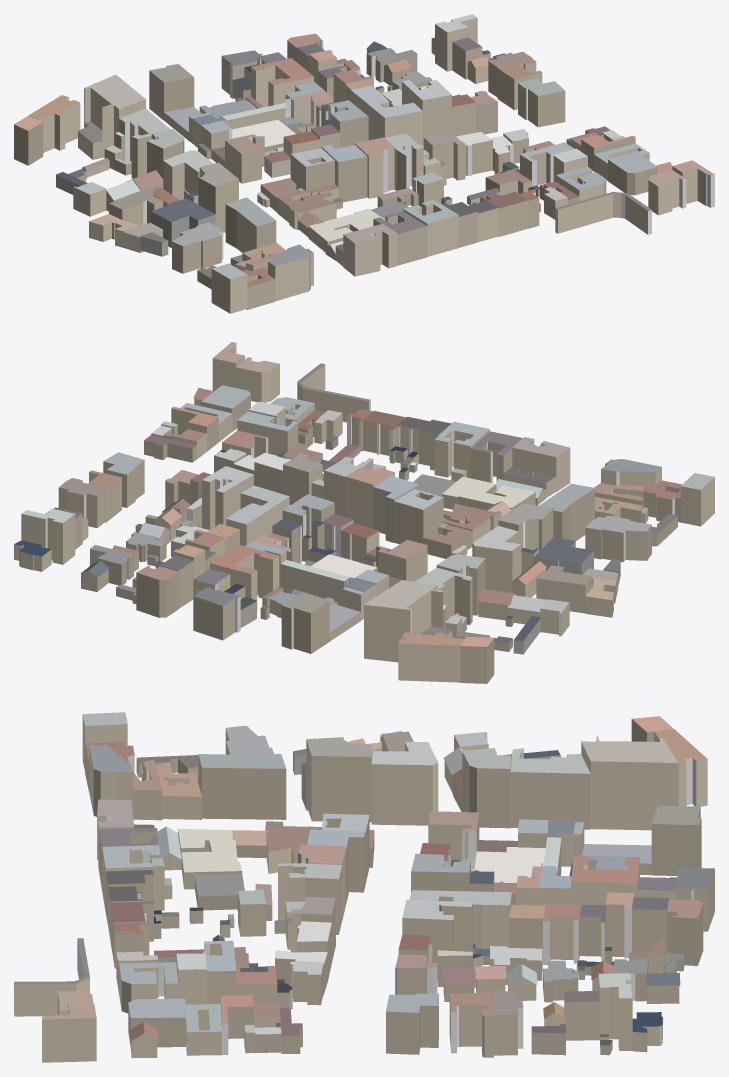
3 views of the same model, one above another, from view 1: azimuth 30°, elevation 25°; view 2: azimuth 150°, elevation 25°; view 3: azimuth 270°, elevation 25° (orthographic). The views are drawn at different scales.
Visible parts, largest first — view 1: tuile; view 2: tuile; view 3: tuile.
Part boxes in pixels (left/top/right/bottom): tuile: left=14, top=14, right=714, bottom=313; tuile: left=14, top=342, right=714, bottom=683; tuile: left=14, top=712, right=714, bottom=1062.
Bounding box in the file's own units: 262 × 28.52 × 242.
